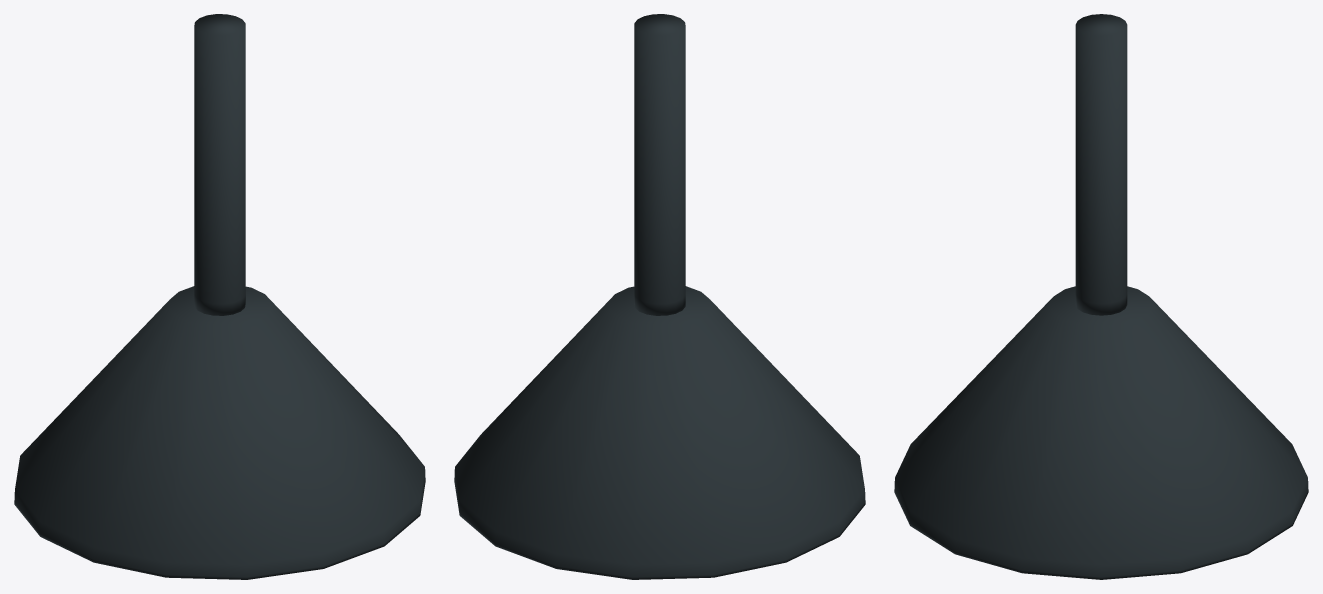
The model's file is area_51_spot_light.glb.
The picture shows the model from 3 angles, left to right: view 1: azimuth 30°, elevation 25°; view 2: azimuth 150°, elevation 25°; view 3: azimuth 270°, elevation 25°; orthographic projection.
Visible parts, largest first — view 1: spot_light; view 2: spot_light; view 3: spot_light.
Part boxes in pixels (x1,y1,x2,y2): spot_light: [14, 14, 425, 579]; spot_light: [454, 14, 865, 579]; spot_light: [894, 14, 1308, 579].
Bounding box in the file's own units: 0.8 × 0.9962 × 0.8.
Materials: 2 (1 with a texture image).
